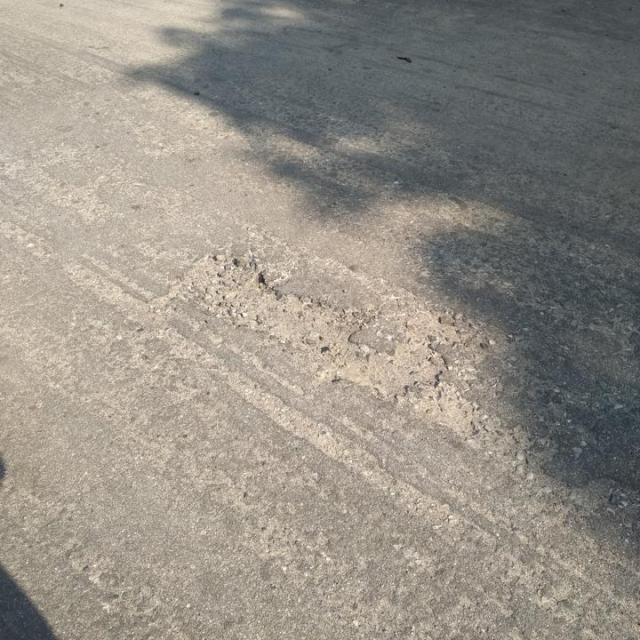pothole: (175, 247, 489, 437)
